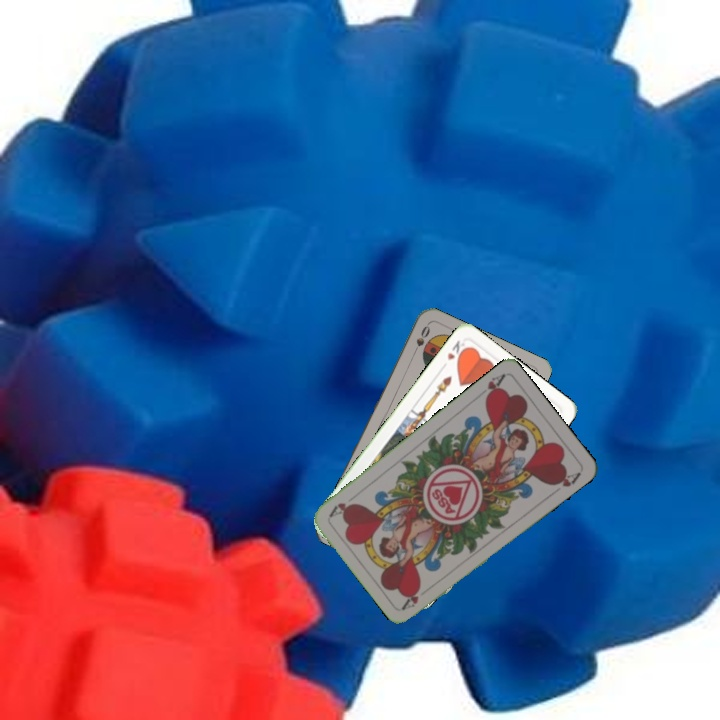HA: (473, 370, 507, 404), (398, 586, 422, 612)
HK: (443, 336, 470, 364)
SO: (408, 321, 433, 359)
